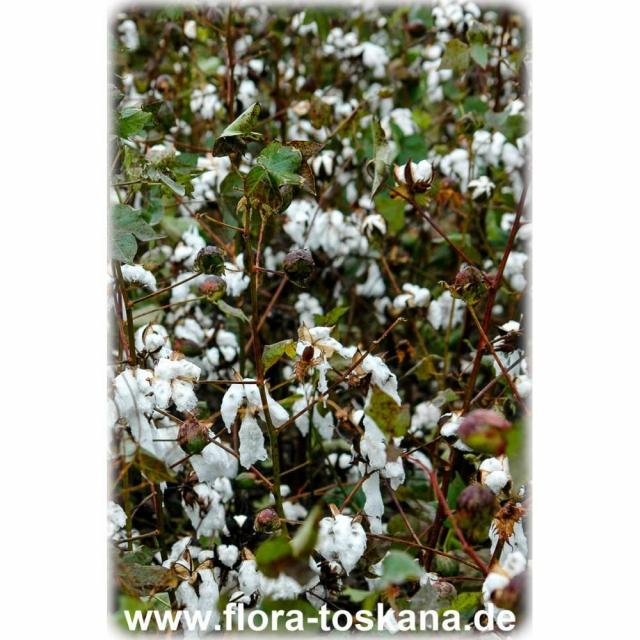Early_blight: (212, 374, 298, 473), (302, 502, 371, 586), (354, 409, 412, 503), (147, 355, 207, 419), (291, 318, 341, 367), (186, 482, 226, 538), (176, 561, 219, 606), (474, 449, 515, 496), (393, 154, 437, 192), (131, 323, 173, 360)
